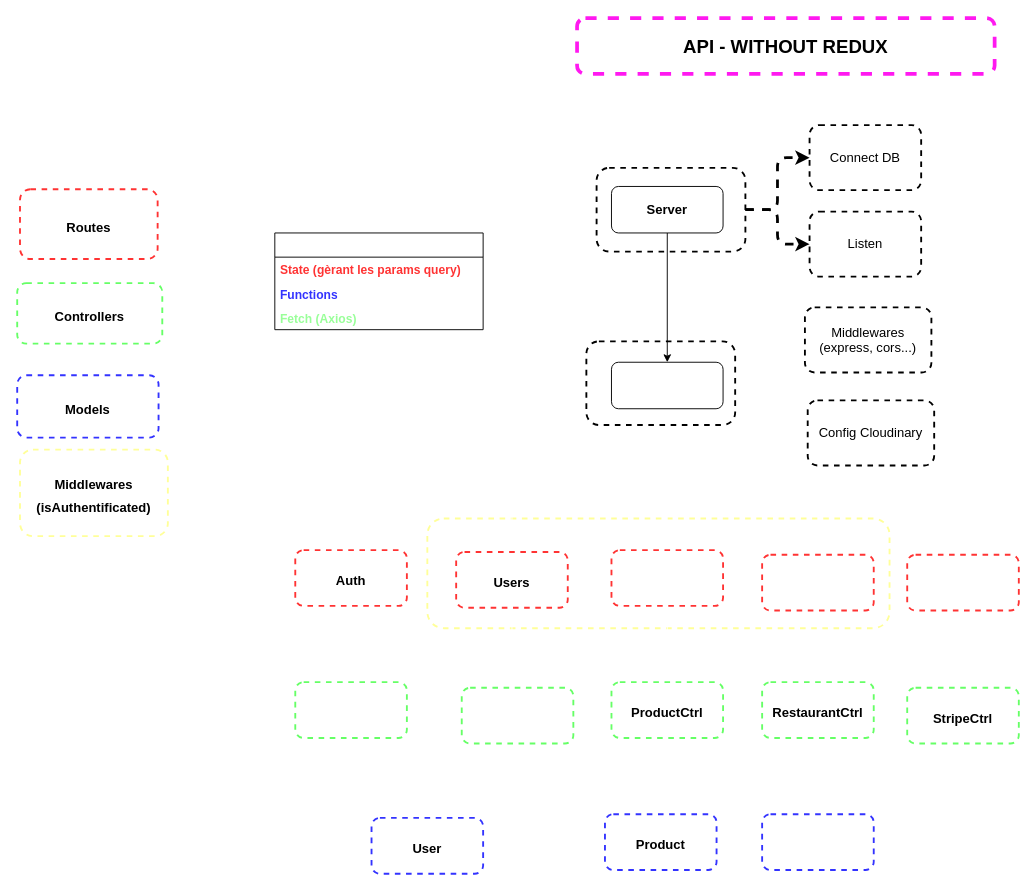
Image size: 1035x890. Some labels were removed from this diagram. The box of each missing label's shape, as (x1, y1, x2, y2) in pixels:
App: (611, 361, 723, 409)
AuthCtrl: (294, 681, 407, 738)
Légende: (274, 232, 483, 330)
Products: (610, 549, 724, 606)
Restaurant: (761, 813, 874, 870)
Restaurants: (761, 553, 874, 611)
Stripe: (906, 553, 1019, 611)
UserCtrl: (460, 686, 574, 744)
